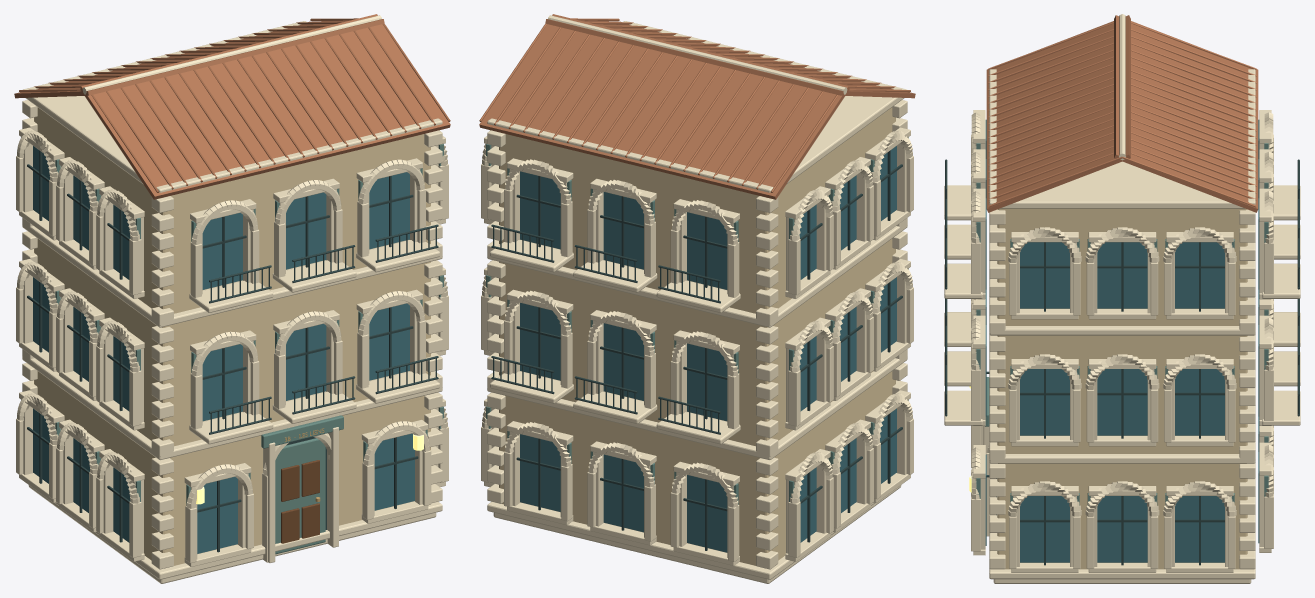
File: espagne-3.glb
3 views of the same model, side by side, from view 1: azimuth 30°, elevation 25°; view 2: azimuth 150°, elevation 25°; view 3: azimuth 270°, elevation 25° (orthographic). The views are drawn at different scales.
Visible parts, largest first — view 1: espagne-3_Dressed stone.006, espagne-3_Masonry plaster.006, espagne-3_Regional roof.006, espagne-3_Window blue, espagne-3_Forged midnight, espagne-3_Regional painted wood.006, espagne-3_Walnut; view 2: espagne-3_Dressed stone.006, espagne-3_Masonry plaster.006, espagne-3_Regional roof.006, espagne-3_Window blue, espagne-3_Forged midnight, espagne-3_Regional painted wood.006; view 3: espagne-3_Dressed stone.006, espagne-3_Regional roof.006, espagne-3_Window blue, espagne-3_Masonry plaster.006, espagne-3_Forged midnight, espagne-3_Regional painted wood.006.
Part boxes in pixels (left/top/right/bottom): espagne-3_Dressed stone.006: left=16, top=15, right=448, bottom=583; espagne-3_Masonry plaster.006: left=34, top=107, right=430, bottom=565; espagne-3_Regional roof.006: left=14, top=14, right=450, bottom=199; espagne-3_Window blue: left=33, top=146, right=414, bottom=553; espagne-3_Forged midnight: left=27, top=150, right=438, bottom=552; espagne-3_Regional painted wood.006: left=21, top=137, right=443, bottom=554; espagne-3_Walnut: left=281, top=460, right=319, bottom=543; espagne-3_Dressed stone.006: left=481, top=15, right=913, bottom=583; espagne-3_Masonry plaster.006: left=499, top=107, right=895, bottom=565; espagne-3_Regional roof.006: left=479, top=14, right=915, bottom=199; espagne-3_Window blue: left=520, top=146, right=896, bottom=552; espagne-3_Forged midnight: left=491, top=150, right=902, bottom=550; espagne-3_Regional painted wood.006: left=486, top=137, right=908, bottom=504; espagne-3_Dressed stone.006: left=944, top=14, right=1300, bottom=583; espagne-3_Regional roof.006: left=986, top=15, right=1258, bottom=212; espagne-3_Window blue: left=985, top=119, right=1259, bottom=562; espagne-3_Masonry plaster.006: left=997, top=208, right=1247, bottom=569; espagne-3_Forged midnight: left=945, top=159, right=1299, bottom=565; espagne-3_Regional painted wood.006: left=976, top=143, right=1268, bottom=505.
Bounding box in the file's own units: 14.12 × 19.23 × 14.25.
